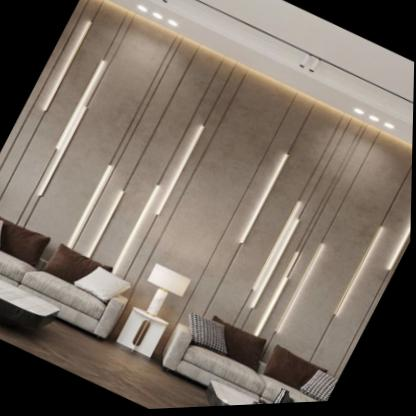Sofa: (0, 198, 143, 351), (157, 300, 344, 410)
Wall Panel: (0, 0, 413, 378)
